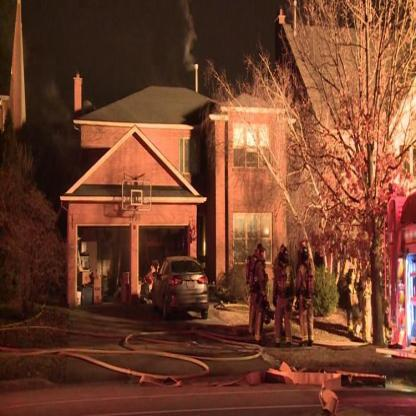other: (230, 115, 274, 153)
